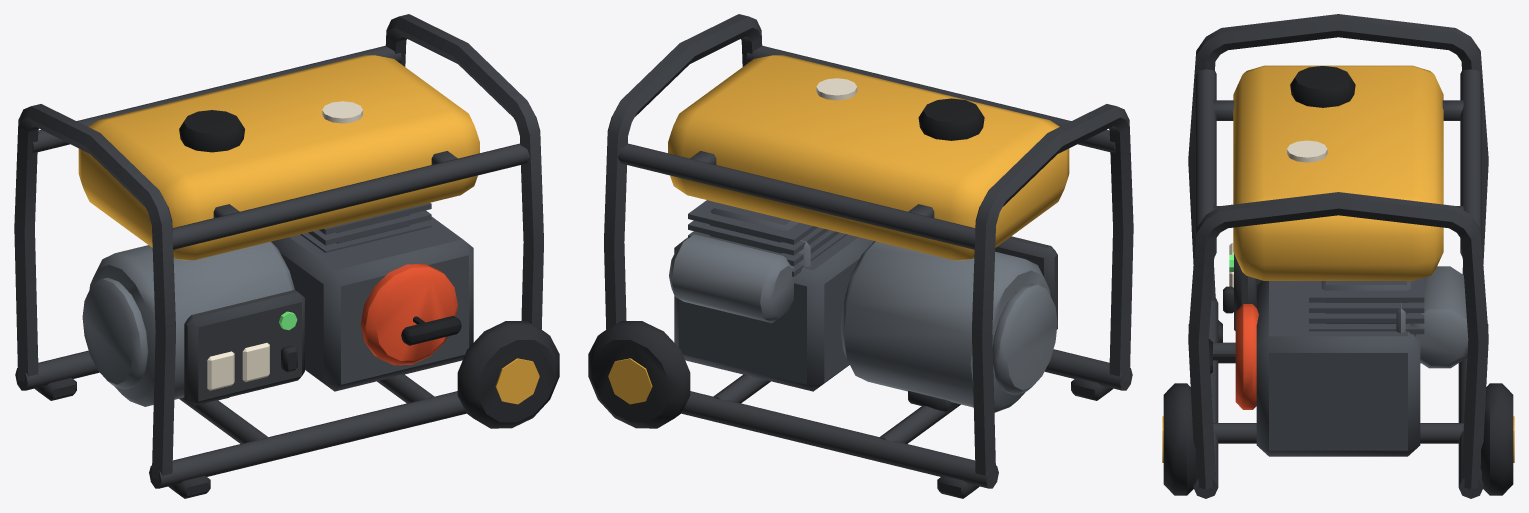
File: Kitchen_Generator.fbx
3 renders of one model, left to right at view 1: azimuth 30°, elevation 25°; view 2: azimuth 150°, elevation 25°; view 3: azimuth 270°, elevation 25°, orthographic.
Parts seen in each view (by area): view 1: Frame, Tank, Engine, Alternator, Rubber, Panel, Starter, FuelCap, Outlets, Hubs, PullHandle, Gauge; view 2: Frame, Tank, Alternator, Engine, Rubber, Muffler, FuelCap, Panel, Hubs, Gauge; view 3: Frame, Tank, Engine, Rubber, Muffler, Starter, FuelCap, Panel, Gauge.
Boxes of the visible parts, <box> form: Frame: <box>14,14,543,488</box>; Tank: <box>78,55,479,260</box>; Engine: <box>271,203,473,391</box>; Alternator: <box>82,241,294,406</box>; Rubber: <box>34,321,559,498</box>; Panel: <box>184,290,304,405</box>; Starter: <box>360,263,457,365</box>; FuelCap: <box>179,110,244,152</box>; Outlets: <box>207,343,269,390</box>; Hubs: <box>495,358,539,404</box>; PullHandle: <box>401,315,461,345</box>; Gauge: <box>322,101,362,123</box>; Frame: <box>604,14,1133,488</box>; Tank: <box>668,55,1069,260</box>; Alternator: <box>840,241,1057,412</box>; Engine: <box>674,200,873,391</box>; Rubber: <box>588,321,1113,498</box>; Muffler: <box>669,234,810,322</box>; FuelCap: <box>918,98,984,140</box>; Panel: <box>995,236,1057,329</box>; Hubs: <box>608,358,652,404</box>; Gauge: <box>816,78,857,100</box>; Frame: <box>1188,14,1488,498</box>; Tank: <box>1233,65,1443,280</box>; Engine: <box>1256,278,1424,456</box>; Rubber: <box>1163,286,1513,495</box>; Muffler: <box>1396,266,1468,368</box>; Starter: <box>1235,304,1258,409</box>; FuelCap: <box>1290,66,1355,107</box>; Panel: <box>1234,254,1261,330</box>; Gauge: <box>1287,140,1327,162</box>.
Size of the model in its own units: 288 by 221 by 226.
